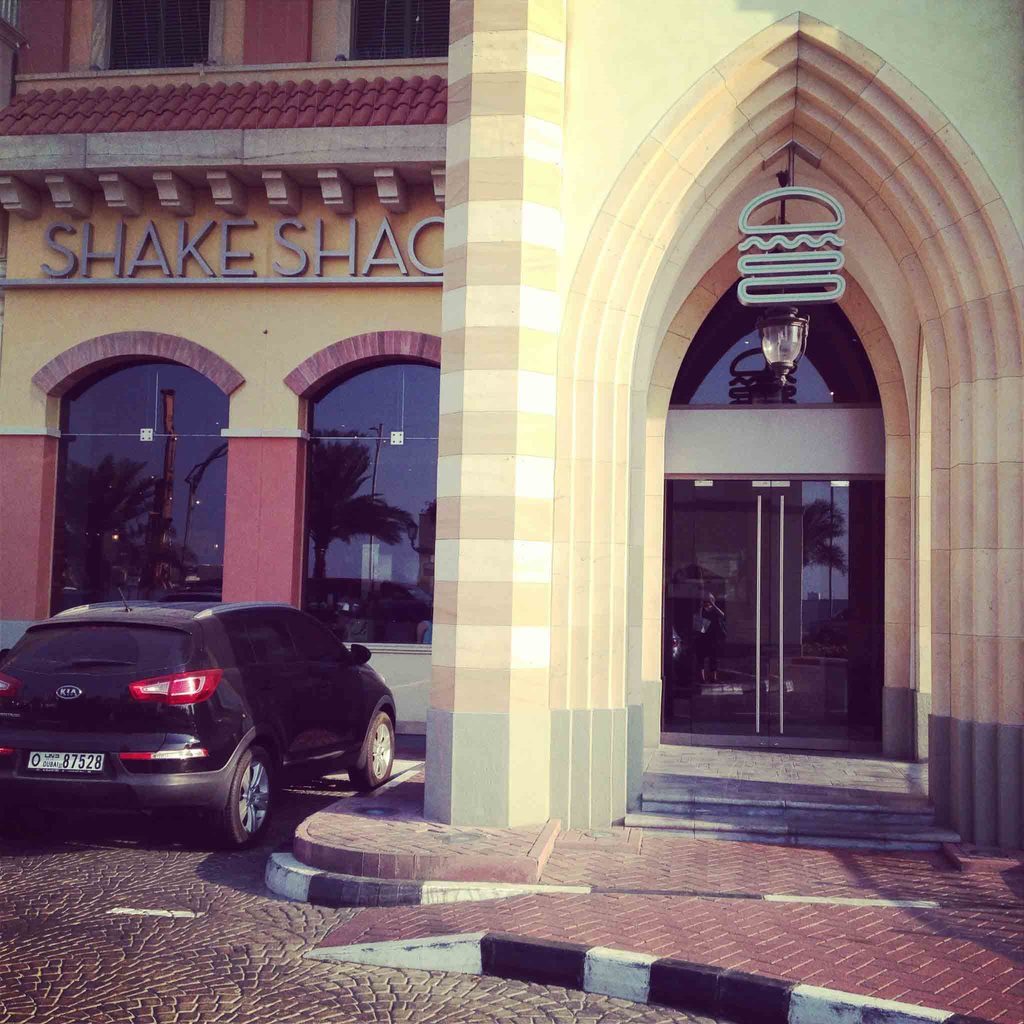Car: (10, 599, 416, 855)
